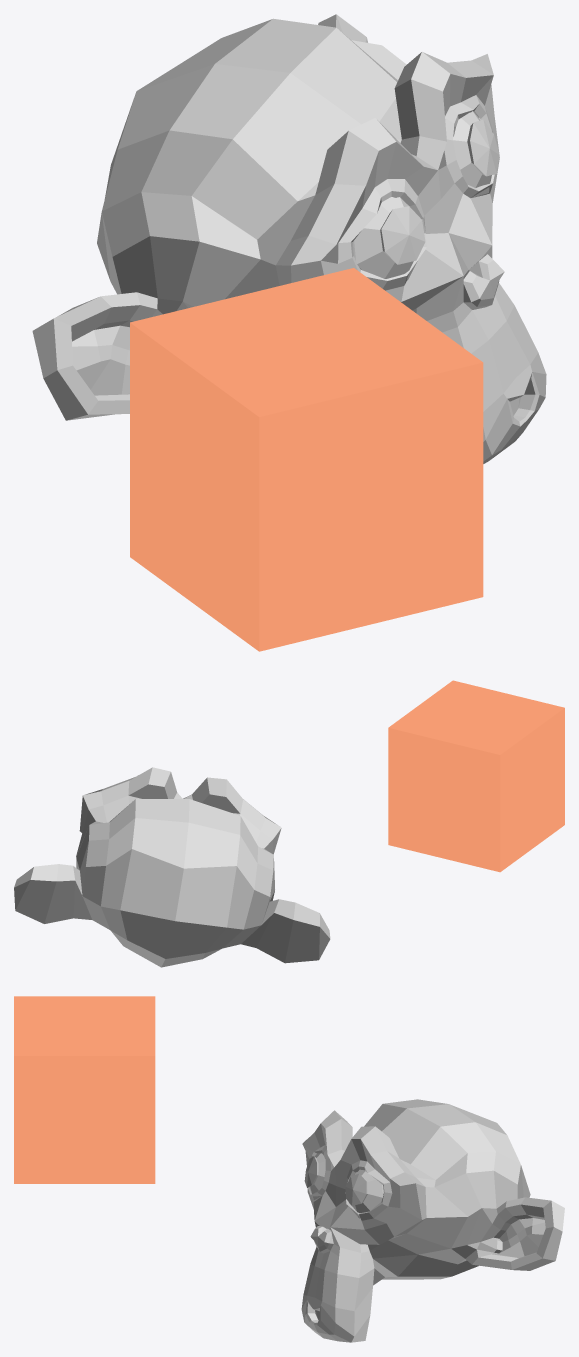
3 renders of one model, top to bottom at view 1: azimuth 30°, elevation 25°; view 2: azimuth 150°, elevation 25°; view 3: azimuth 270°, elevation 25°, orthographic. The views are drawn at different scales.
Visible parts, largest first — view 1: Suzanne, Cube; view 2: Suzanne, Cube; view 3: Suzanne, Cube.
Part boxes in pixels (bbox=[...]): Suzanne: bbox=[32, 14, 546, 463]; Cube: bbox=[130, 268, 483, 651]; Suzanne: bbox=[14, 767, 330, 967]; Cube: bbox=[388, 680, 564, 872]; Suzanne: bbox=[301, 1099, 564, 1342]; Cube: bbox=[14, 996, 155, 1183].
Size of what is drawn, in the model's own units: 2.98 by 1.77 by 4.29.
